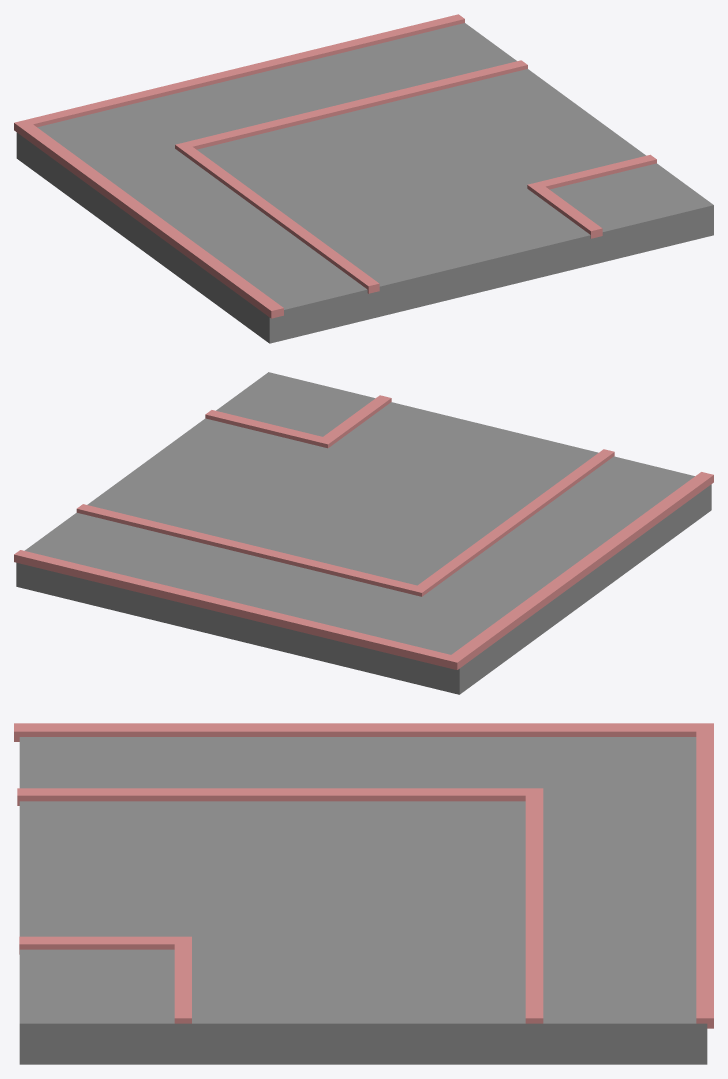
3 views of the same model, one above another, from view 1: azimuth 30°, elevation 25°; view 2: azimuth 150°, elevation 25°; view 3: azimuth 270°, elevation 25° (orthographic). The views are drawn at different scales.
Visible parts, largest first — view 1: Object096; view 2: Object096; view 3: Object096.
Part boxes in pixels (x1=…): Object096: x1=14, y1=14, x2=713, y2=343; Object096: x1=14, y1=372, x2=713, y2=694; Object096: x1=14, y1=723, x2=713, y2=1064.
Size of the model in its own units: 1004 by 73.69 by 1006.
